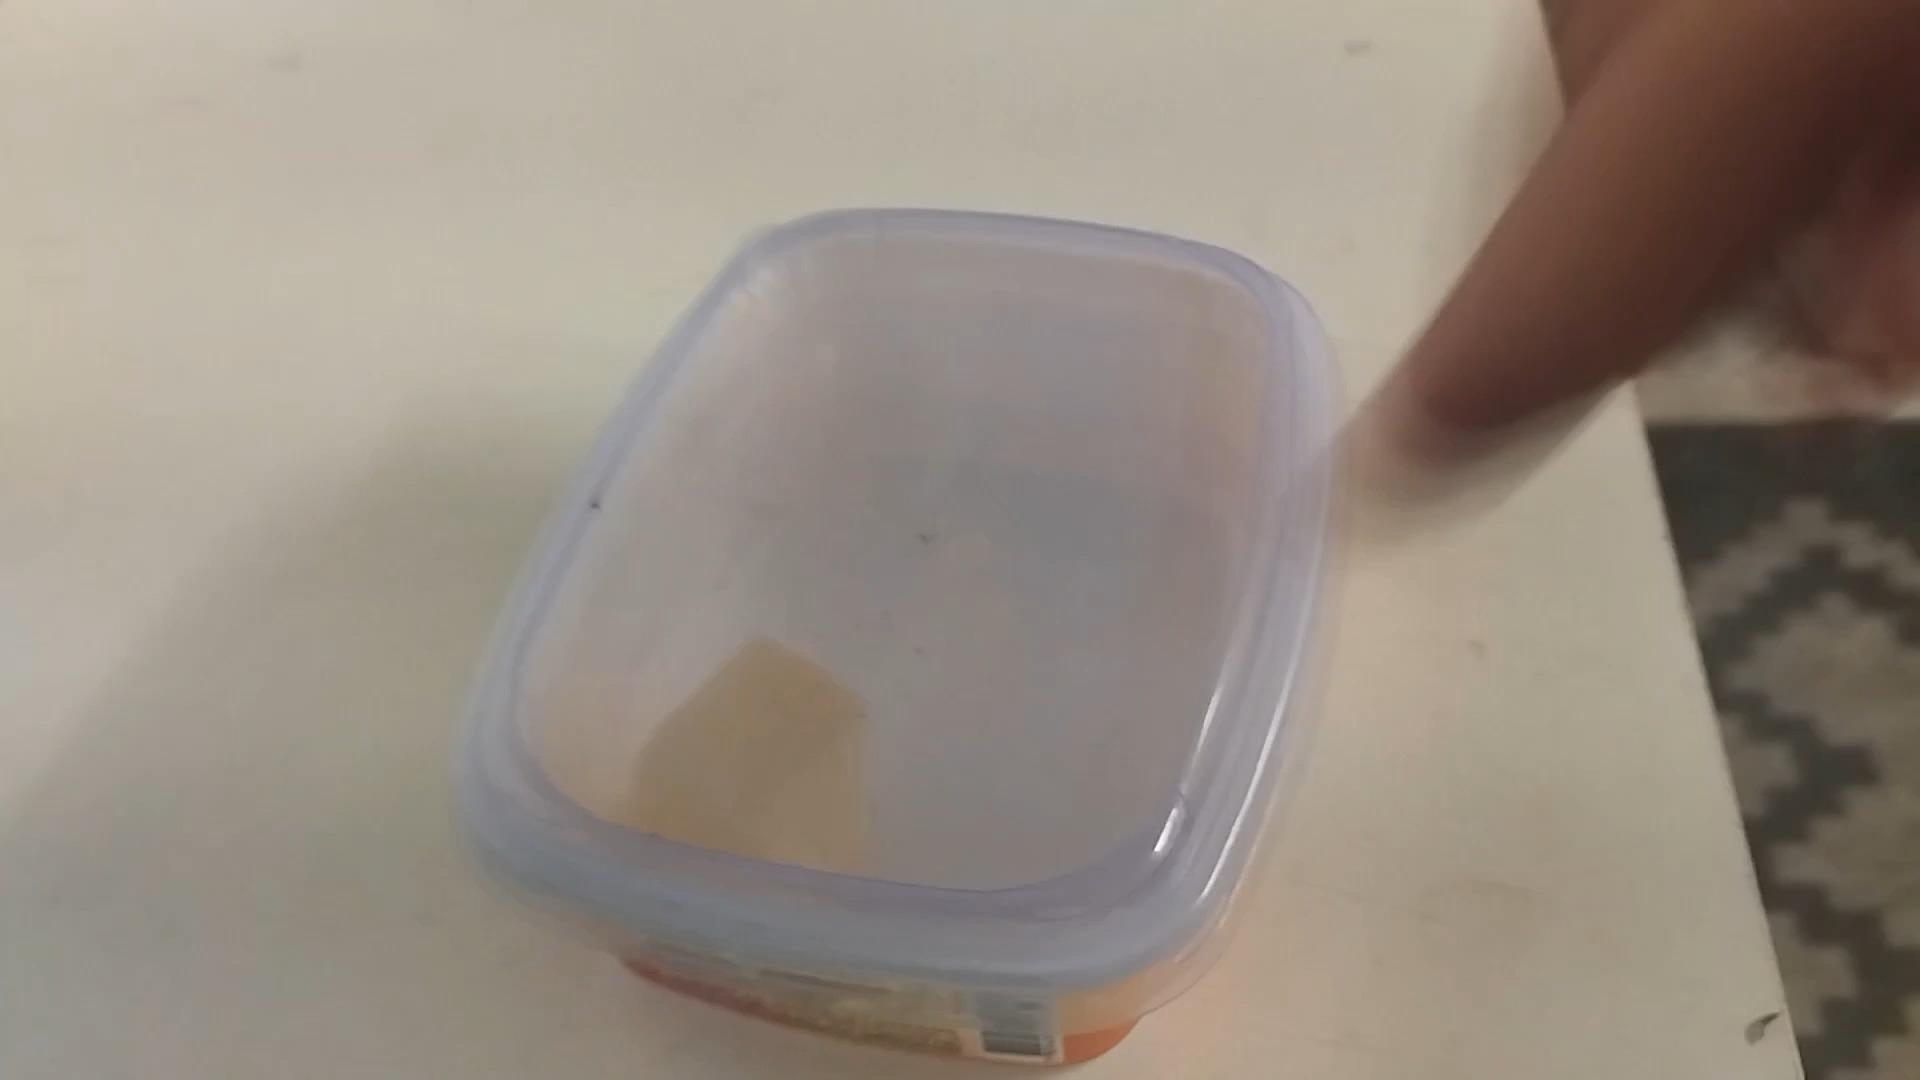butter: (454, 220, 1333, 1071)
